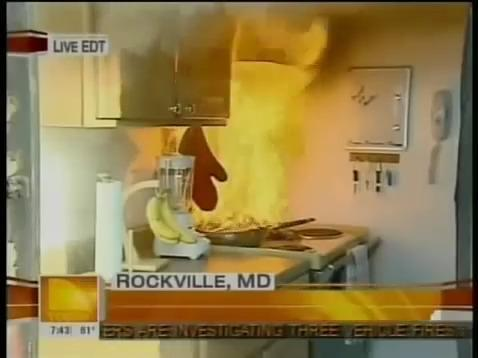fire: (170, 19, 328, 232)
